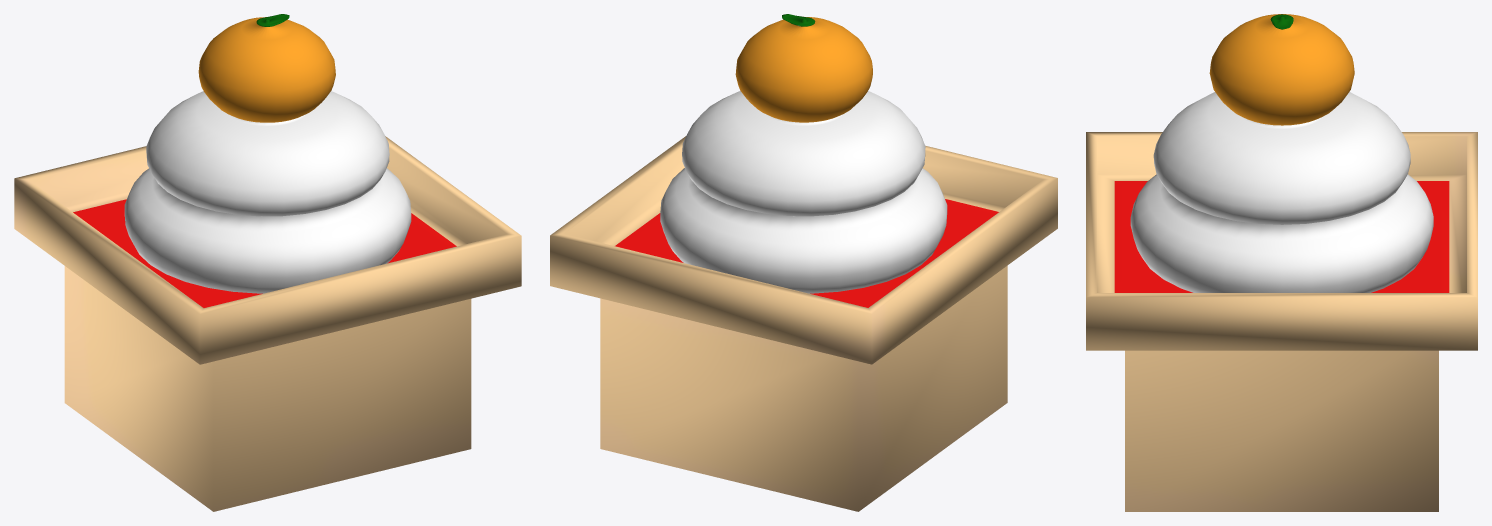
Rendered from kagamimoti.fbx.
3 views of the same model, side by side, from view 1: azimuth 30°, elevation 25°; view 2: azimuth 150°, elevation 25°; view 3: azimuth 270°, elevation 25° (orthographic). The views are drawn at different scales.
Parts seen in each view (by area): view 1: kagamimoti; view 2: kagamimoti; view 3: kagamimoti.
Part boxes in pixels (box(x1,y1,x2,y2)): kagamimoti: box(14, 14, 521, 511); kagamimoti: box(550, 14, 1057, 511); kagamimoti: box(1086, 14, 1477, 511).
Bounding box in the file's own units: 33.45 × 40.4 × 33.45.
Materials: 1 (1 with a texture image).
